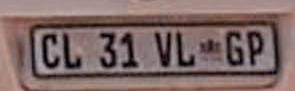1: (119, 30, 139, 68)
3: (96, 30, 118, 68)
C: (40, 31, 61, 68)
G: (222, 28, 244, 66)
L: (173, 29, 196, 68), (61, 31, 83, 69)
P: (245, 29, 265, 66)
V: (151, 30, 172, 68)
